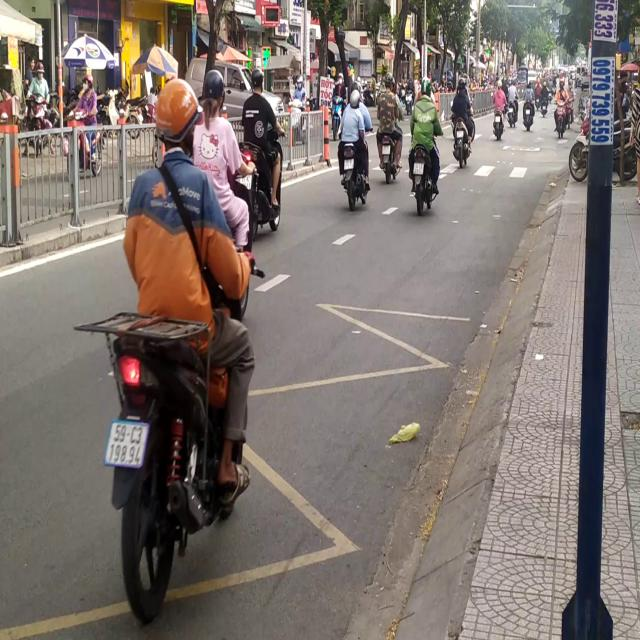bien_trang: (105, 418, 147, 472)
